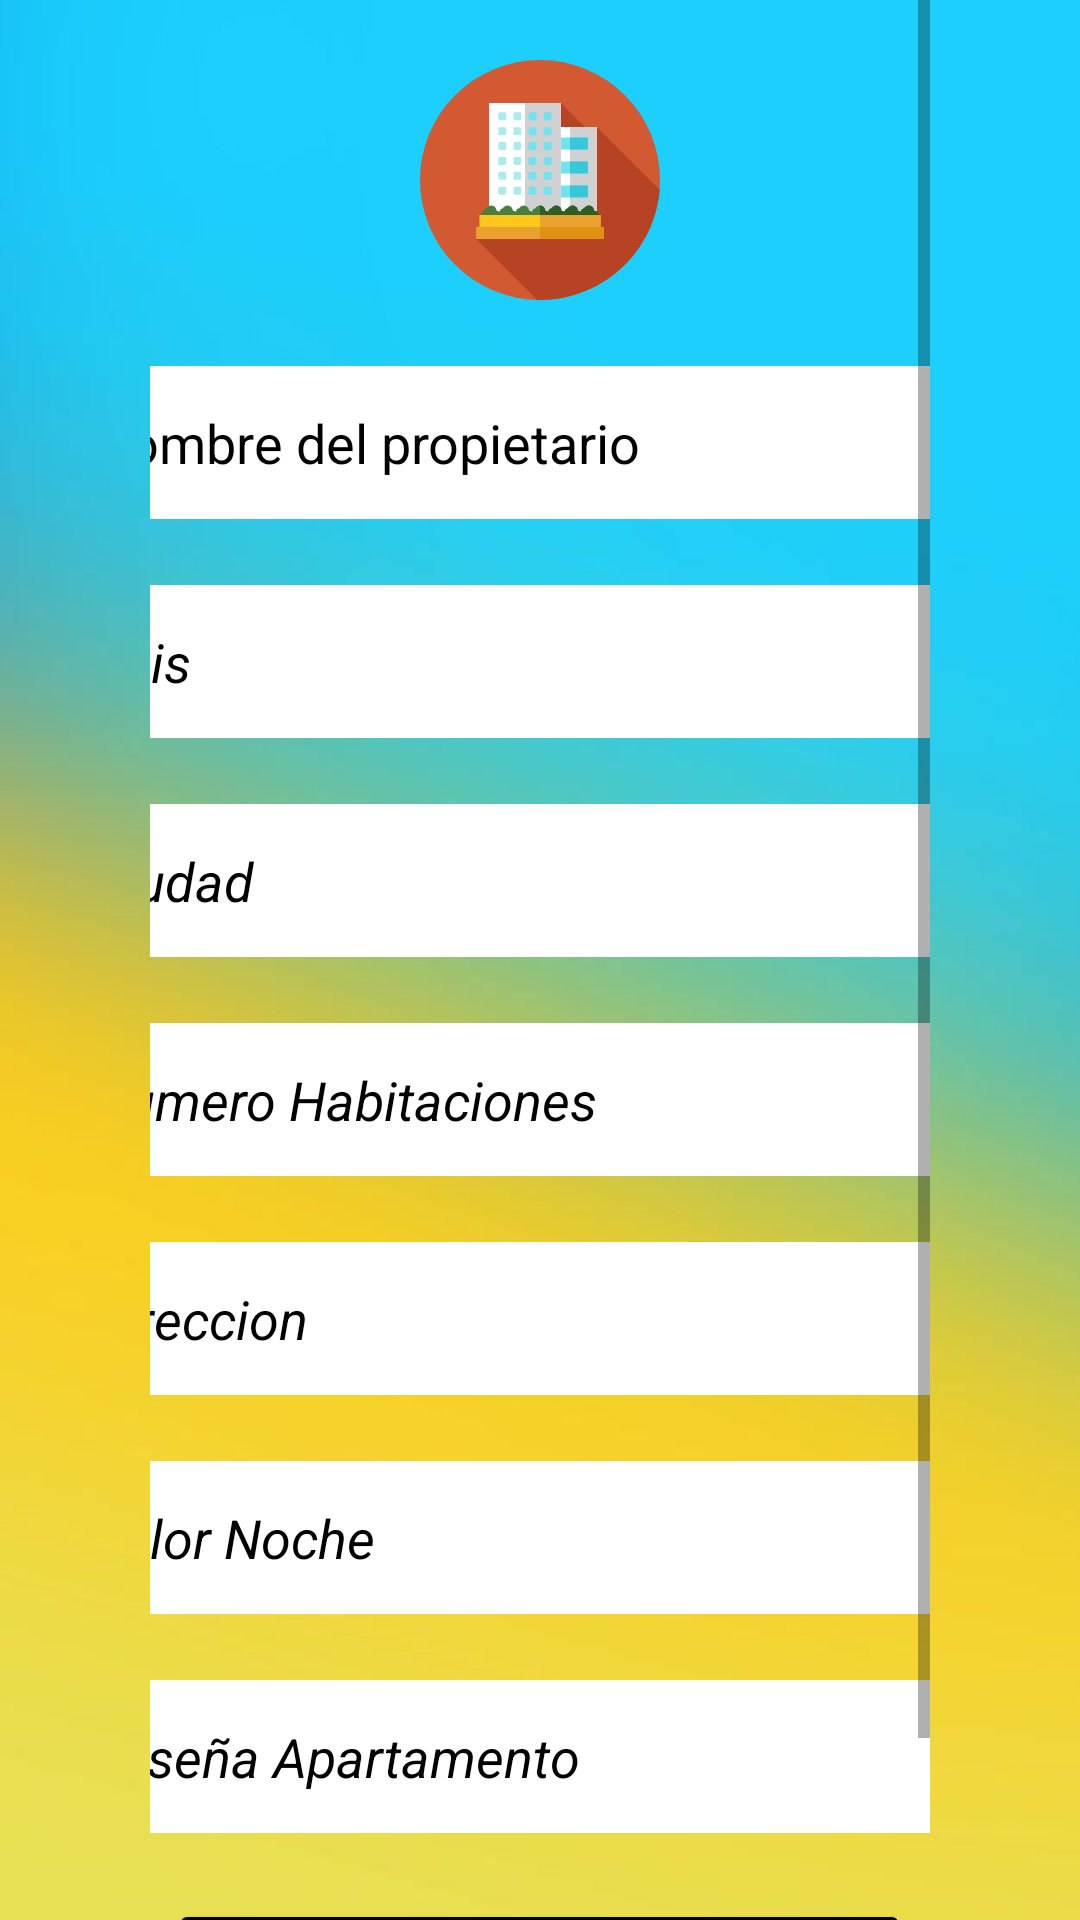

Screen size 1080w x 1920h. Icon name, then its center in pixels as (x=x, y=y):
apartamentos: (x=540, y=180)
